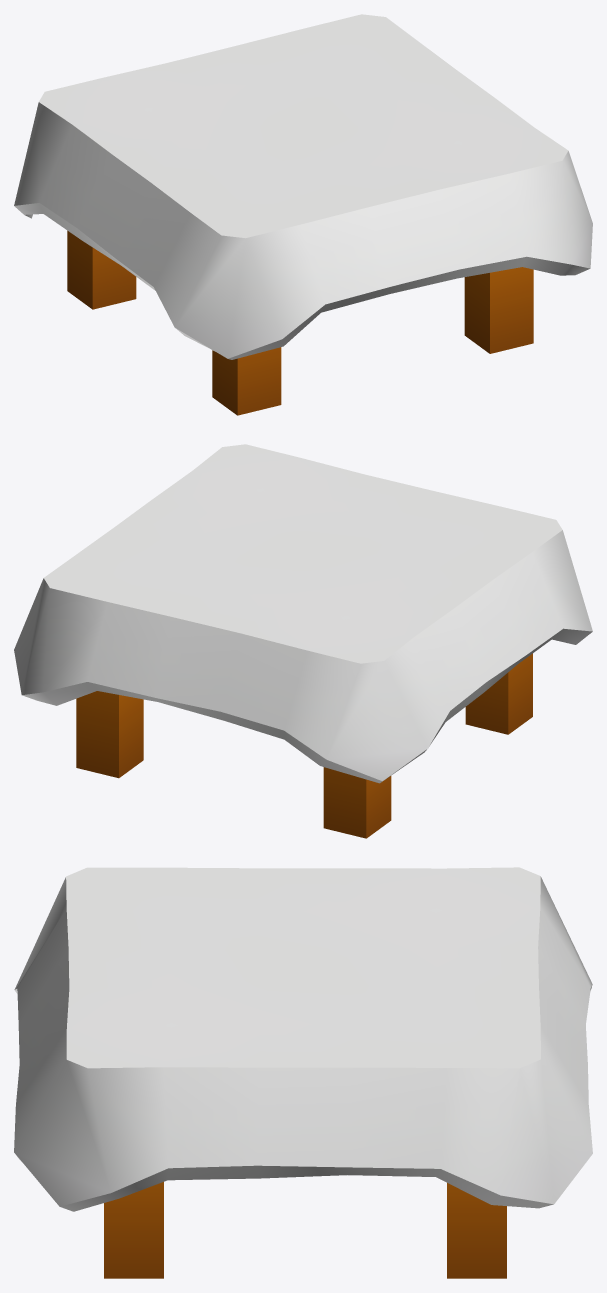
Rendered from Table_01.fbx.
3 views of the same model, one above another, from view 1: azimuth 30°, elevation 25°; view 2: azimuth 150°, elevation 25°; view 3: azimuth 270°, elevation 25° (orthographic). The views are drawn at different scales.
Visible parts, largest first — view 1: Table_01; view 2: Table_01; view 3: Table_01.
Boxes of the visible parts, left/top/right/bottom form: Table_01: left=14, top=14, right=592, bottom=415; Table_01: left=14, top=444, right=592, bottom=838; Table_01: left=14, top=867, right=592, bottom=1278.
Bounding box in the file's own units: 133 × 57.42 × 133.
